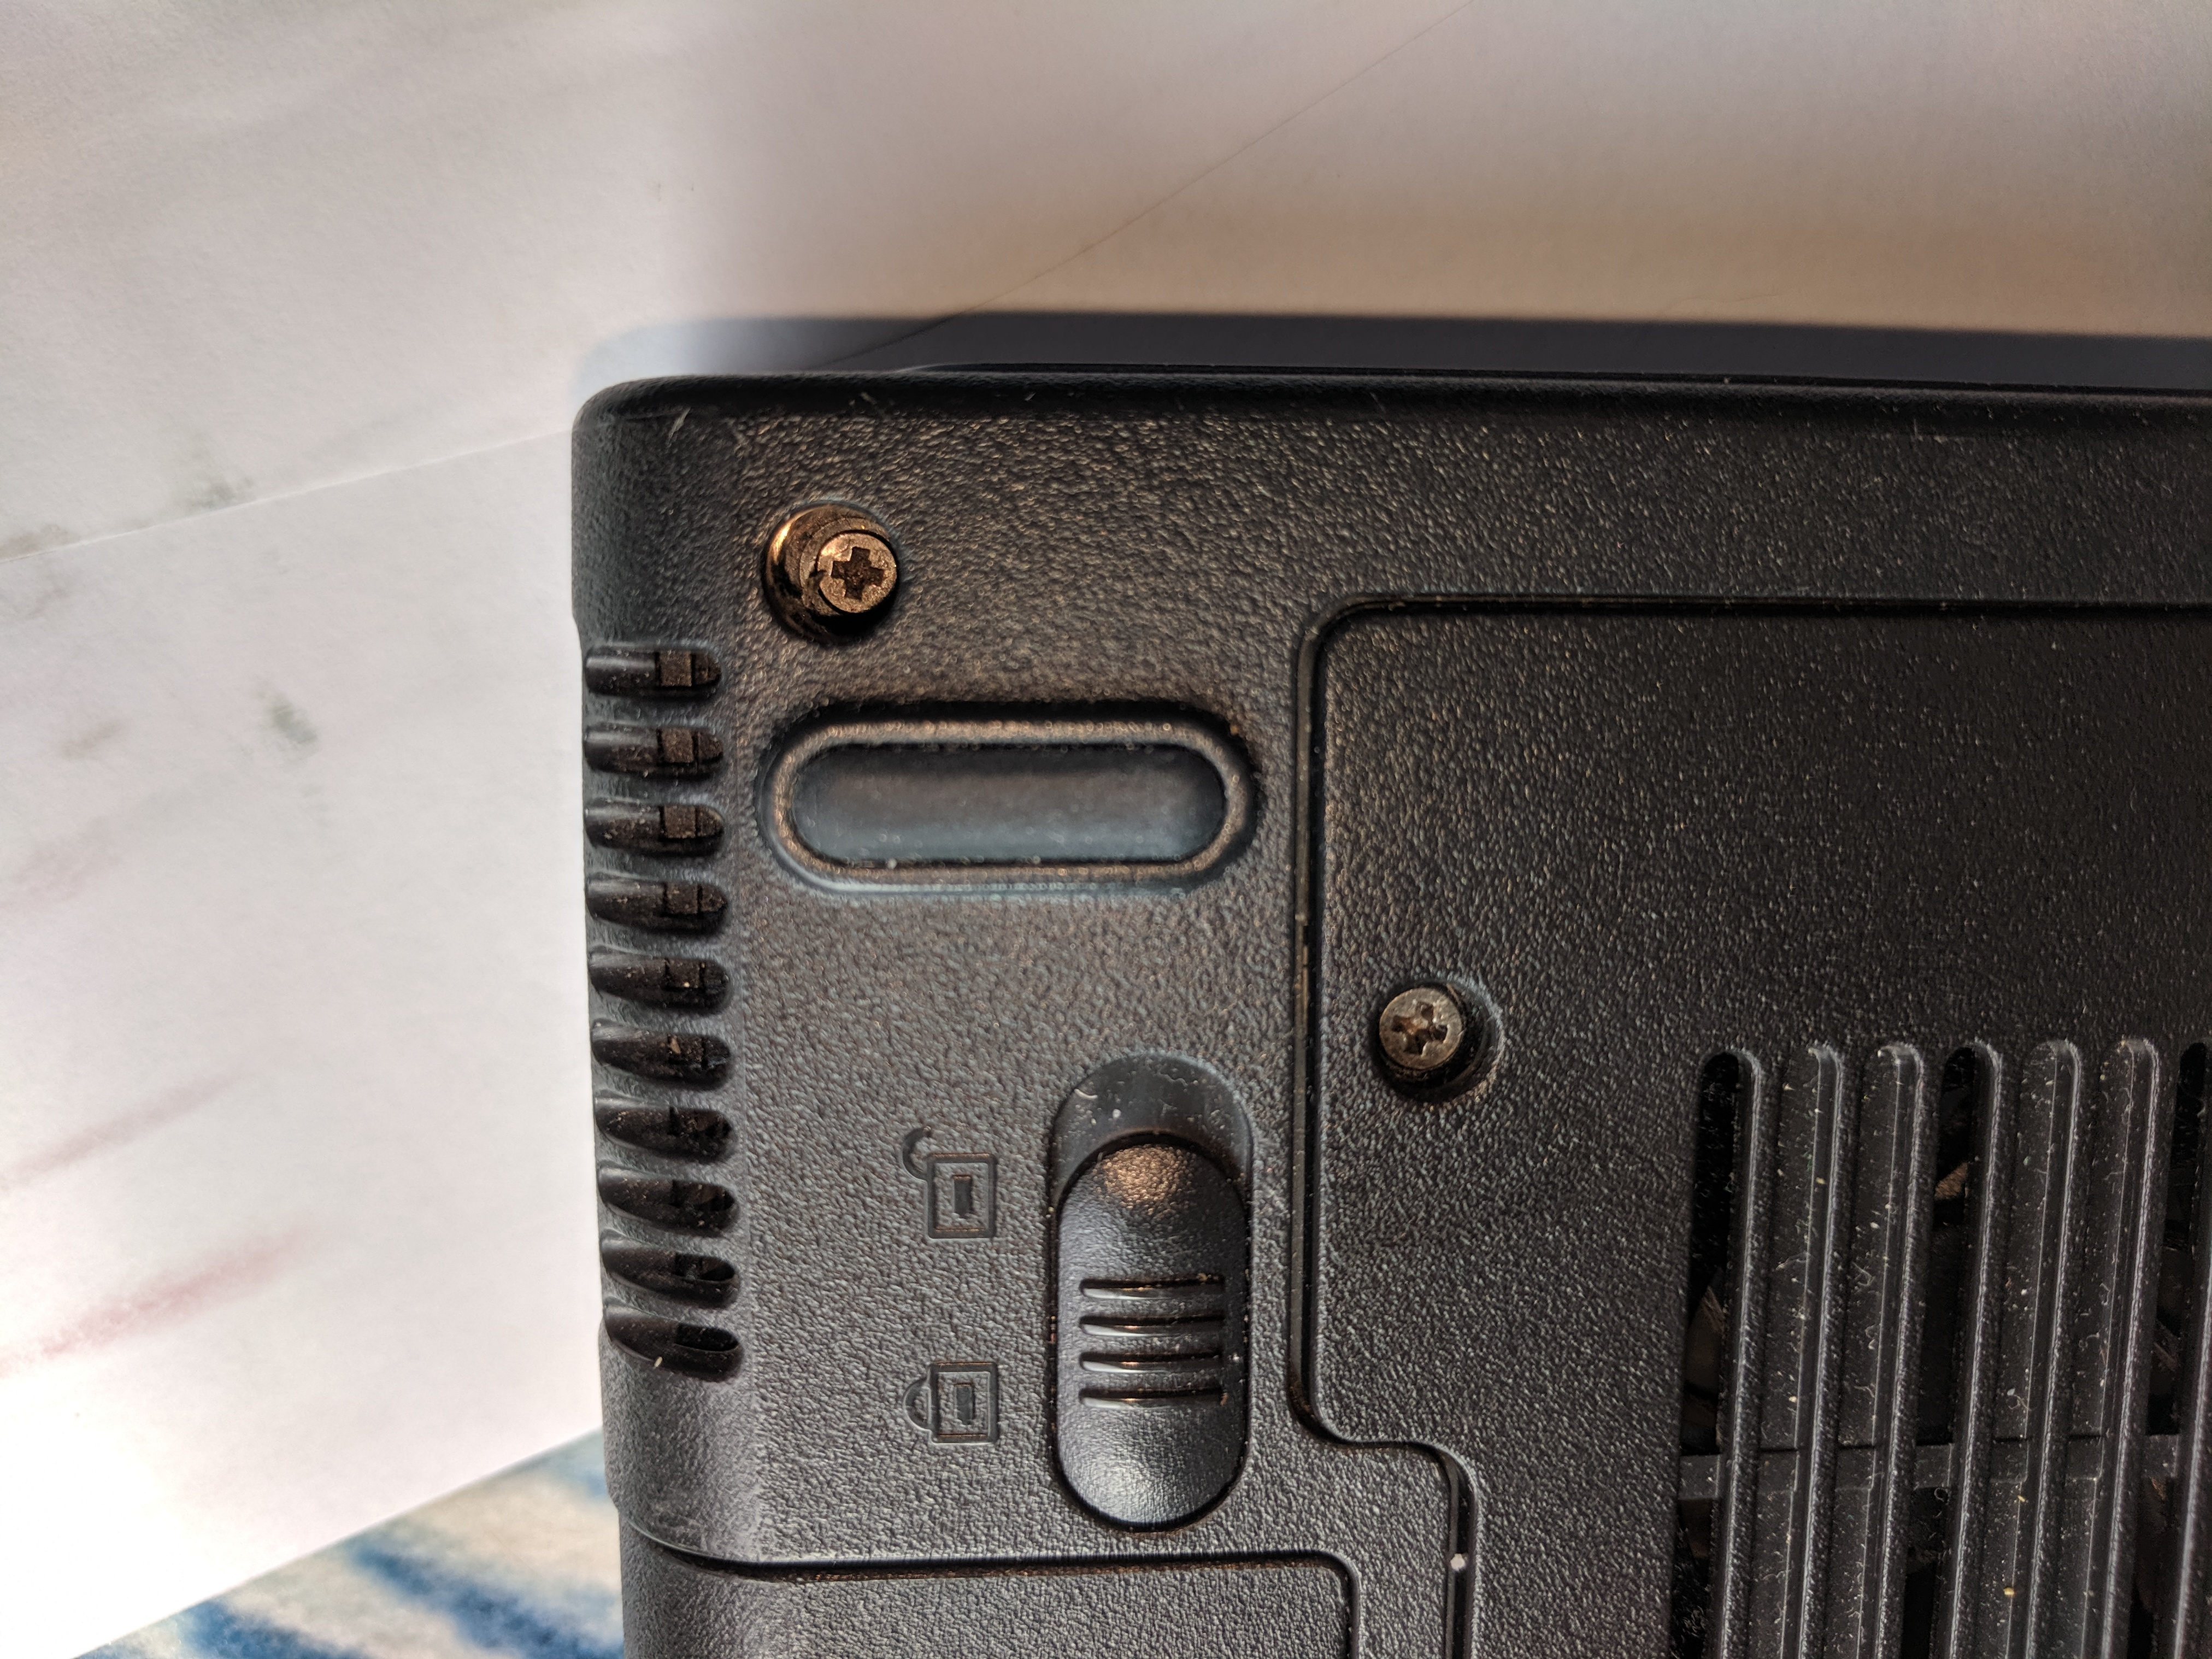cross_recessed_screw: (1364, 969, 1479, 1084), (791, 509, 907, 622)
